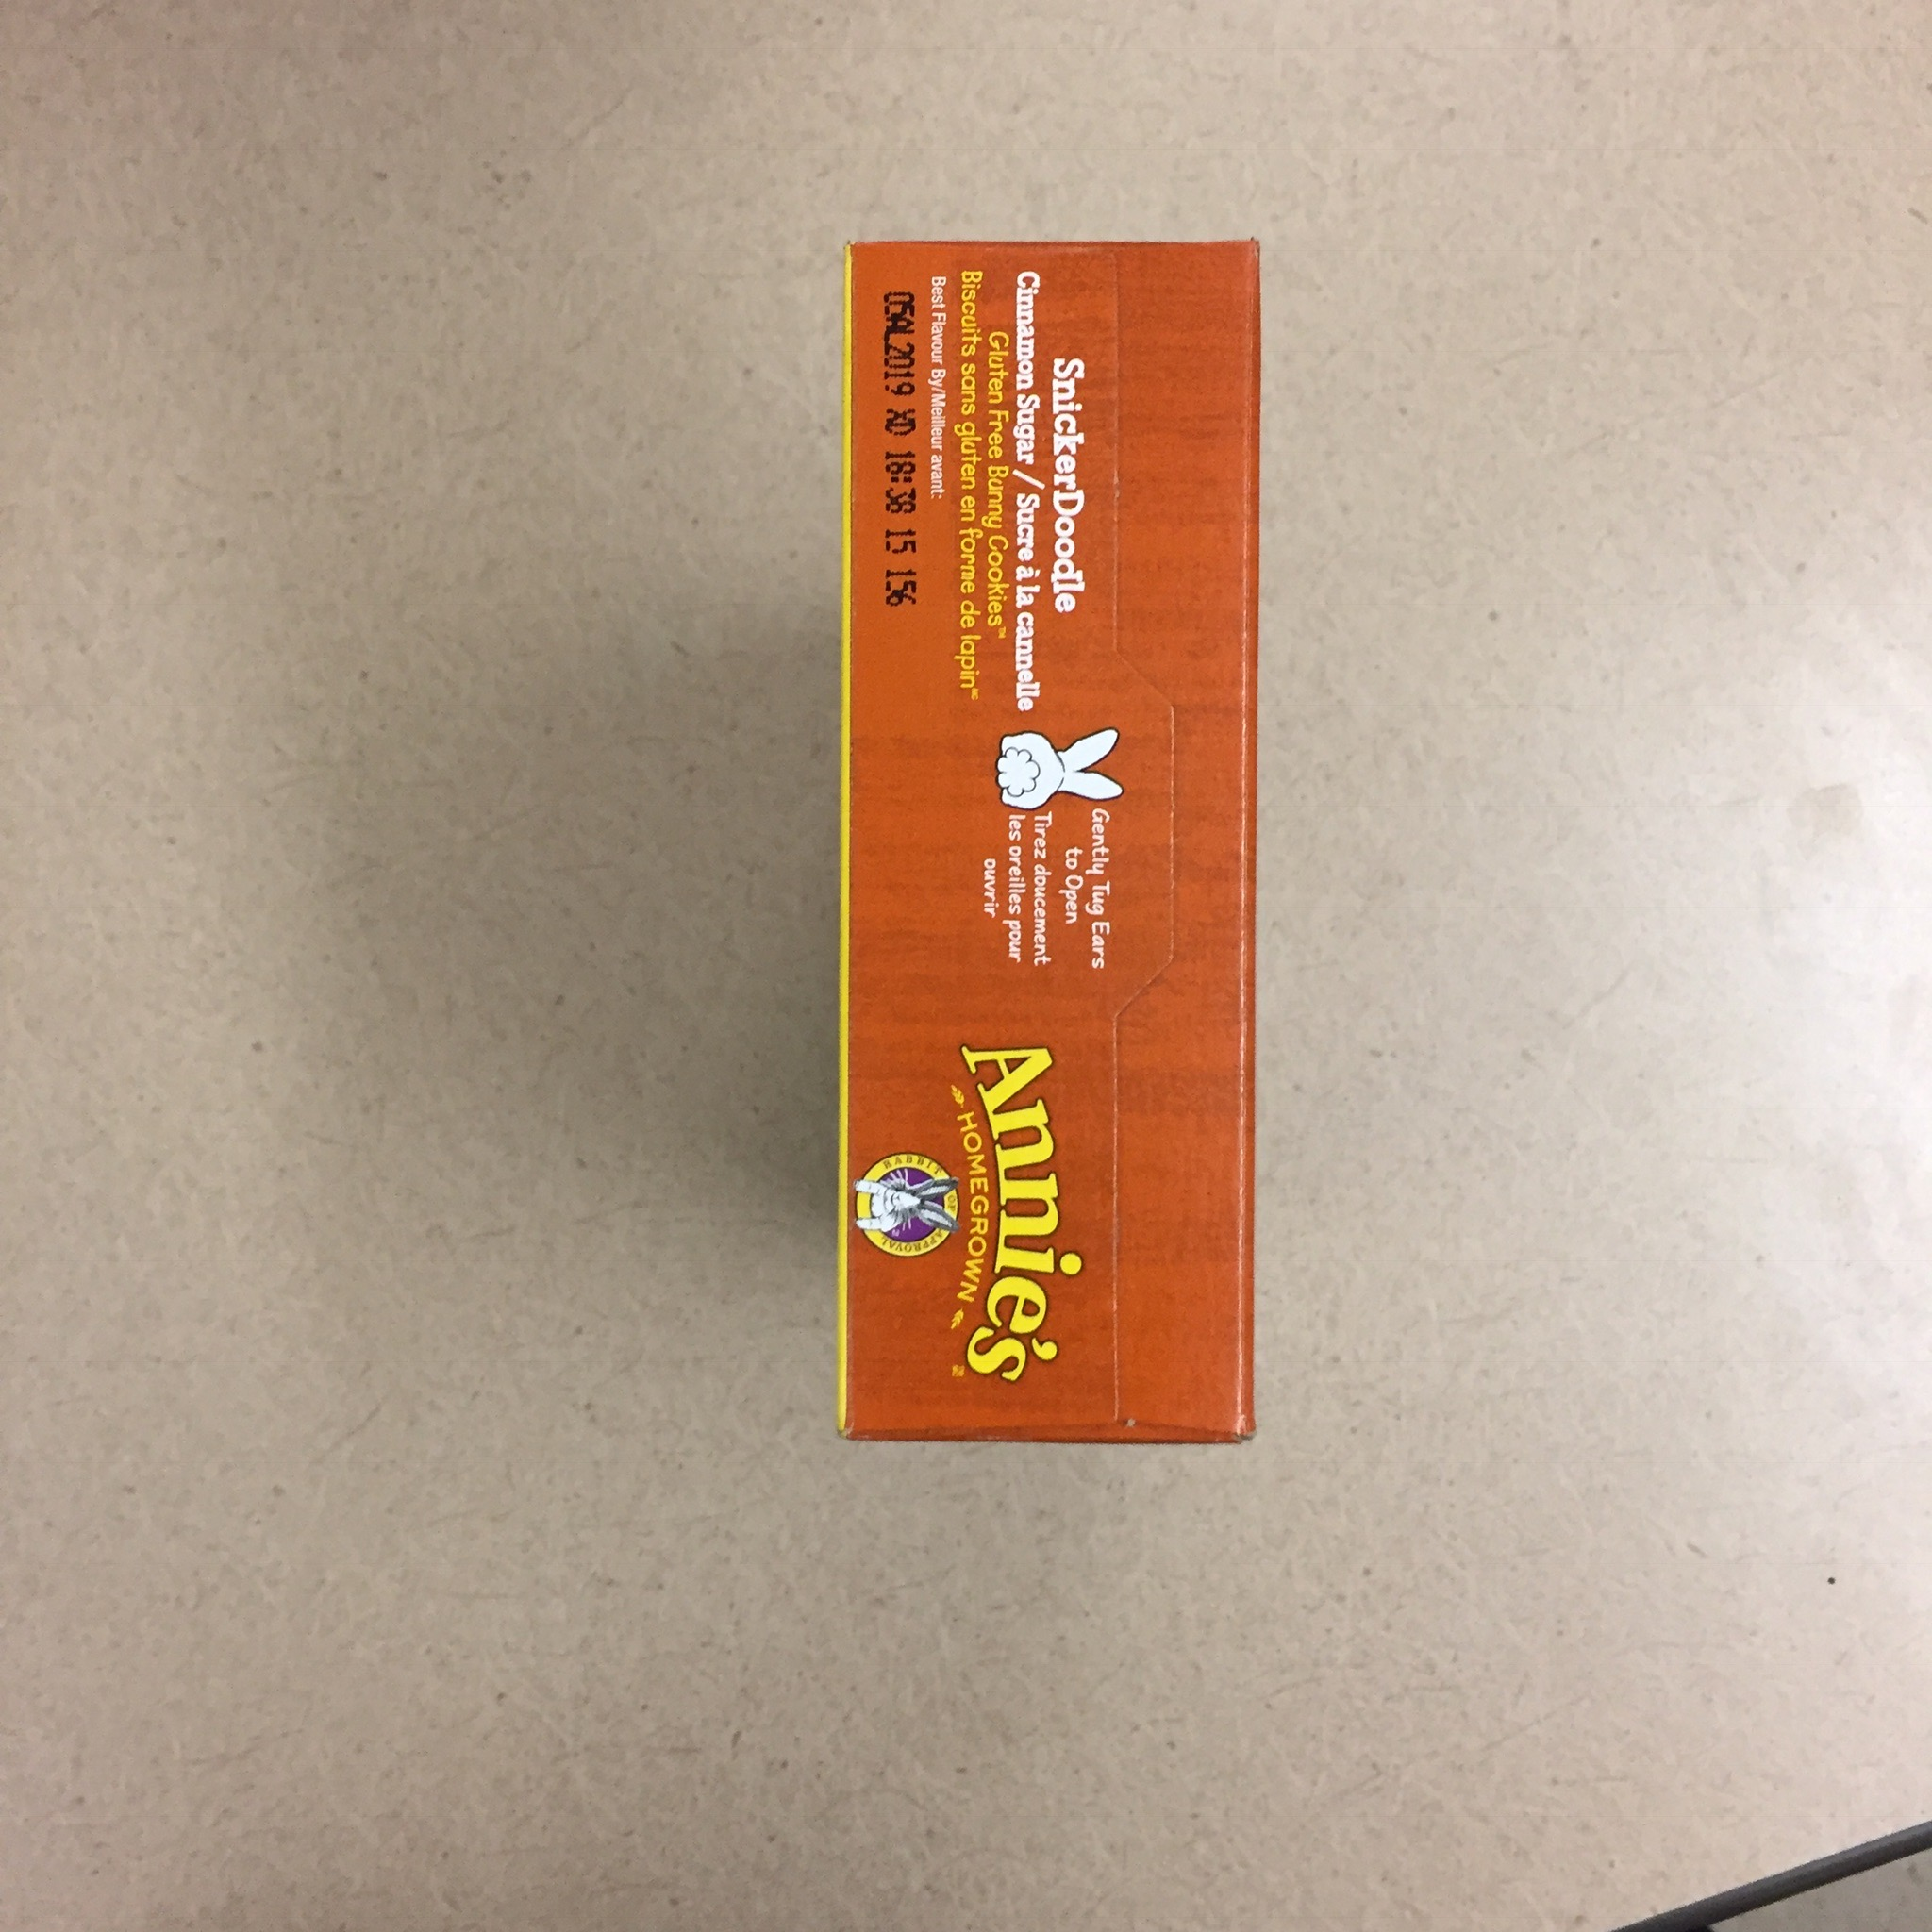annies_snickerdoodle_cinnamon_sugar: (835, 230, 1263, 1453)
